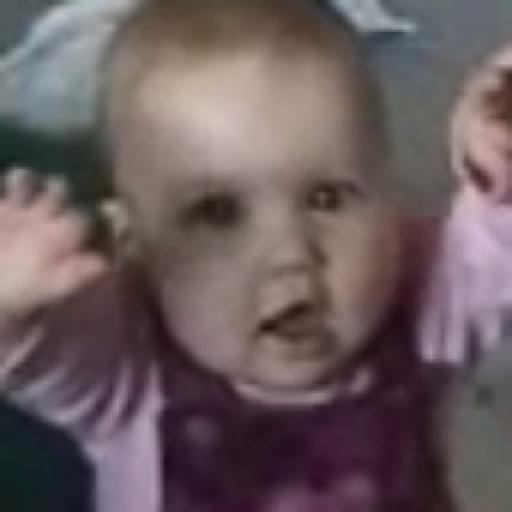Autism: (106, 6, 416, 410)
